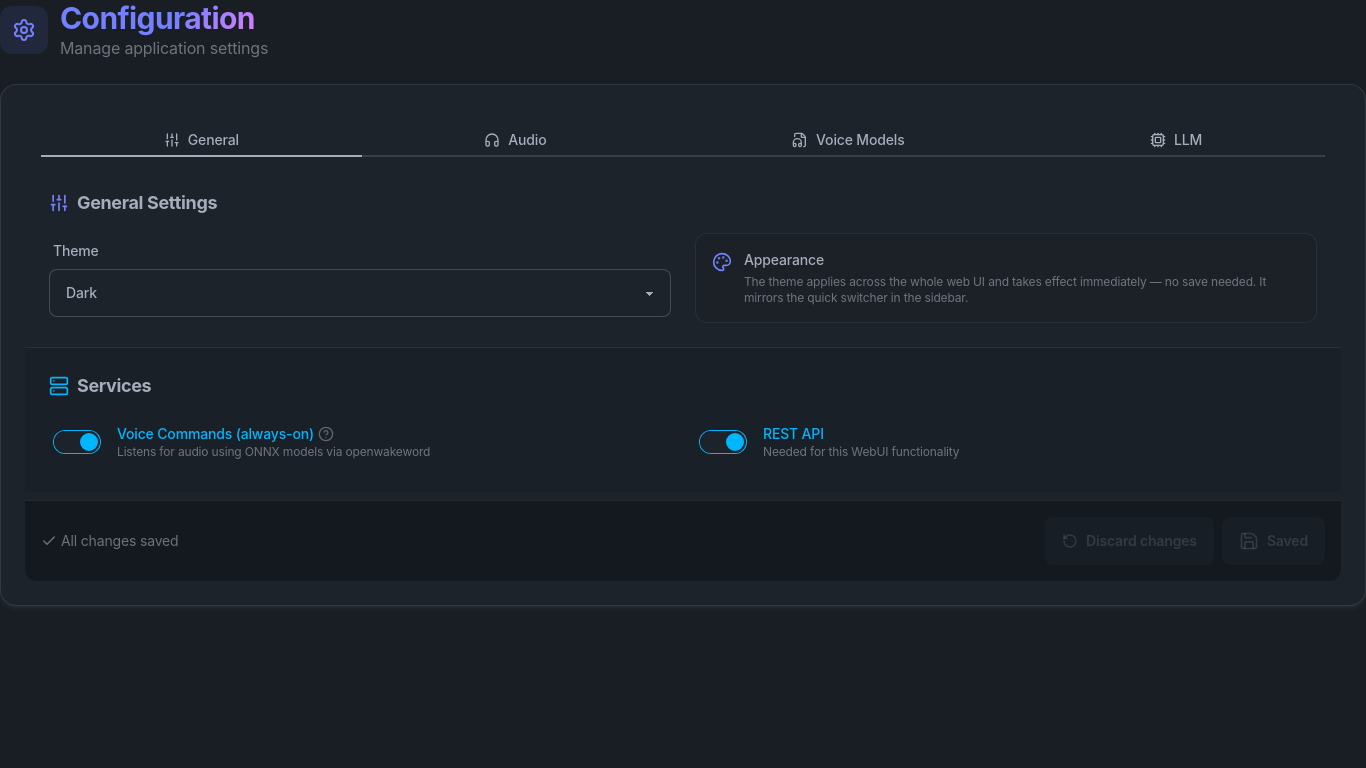
ConfigurationPage dirty-state + save › Discard reverts changes back to the loaded config
The image size is (1366, 768).
Expected: the button with test id "save-button" is disabled, x1=1222 y1=517 x2=1325 y2=565
Select "Light" in the dropdown labelled "Theme" at [360, 293], box x1=49 y1=269 x2=671 y2=317
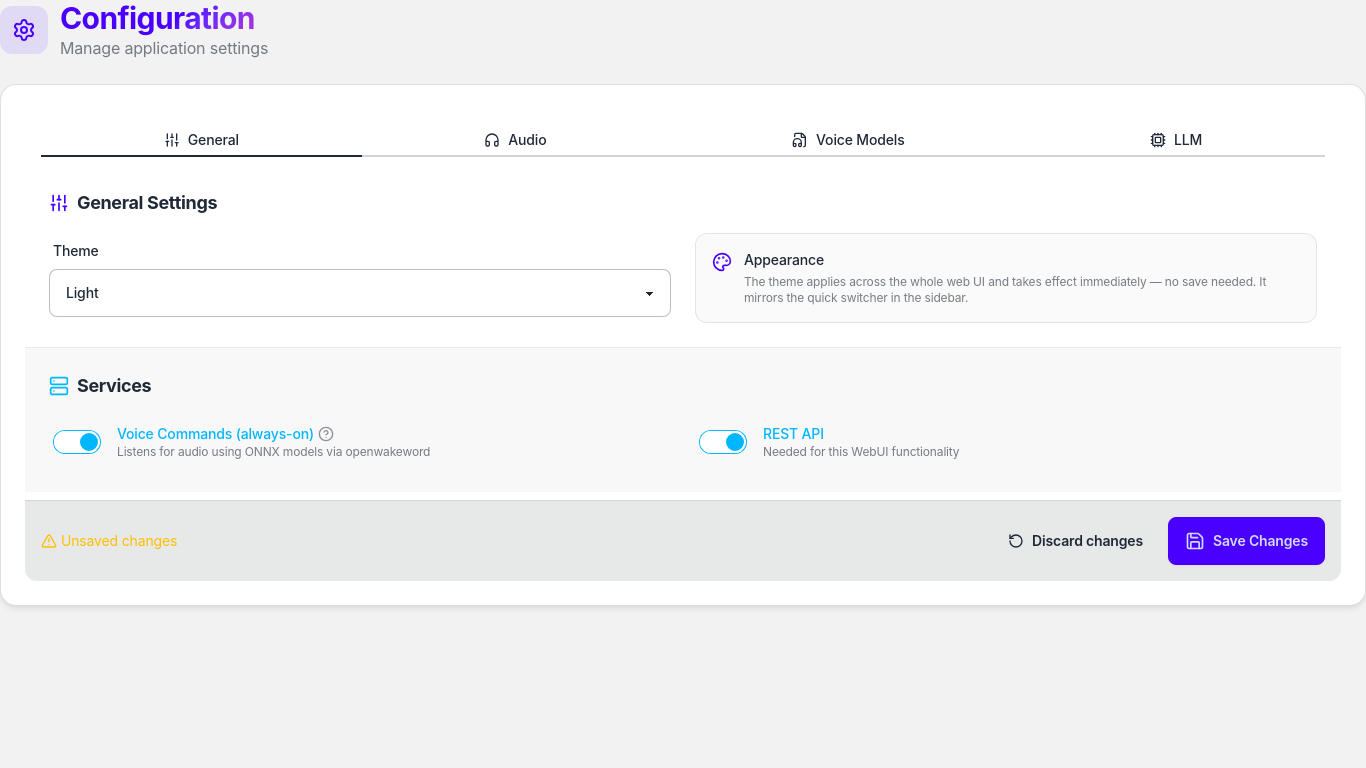
Click the button with test id "discard-button" at [1076, 541], box x1=991 y1=517 x2=1160 y2=565
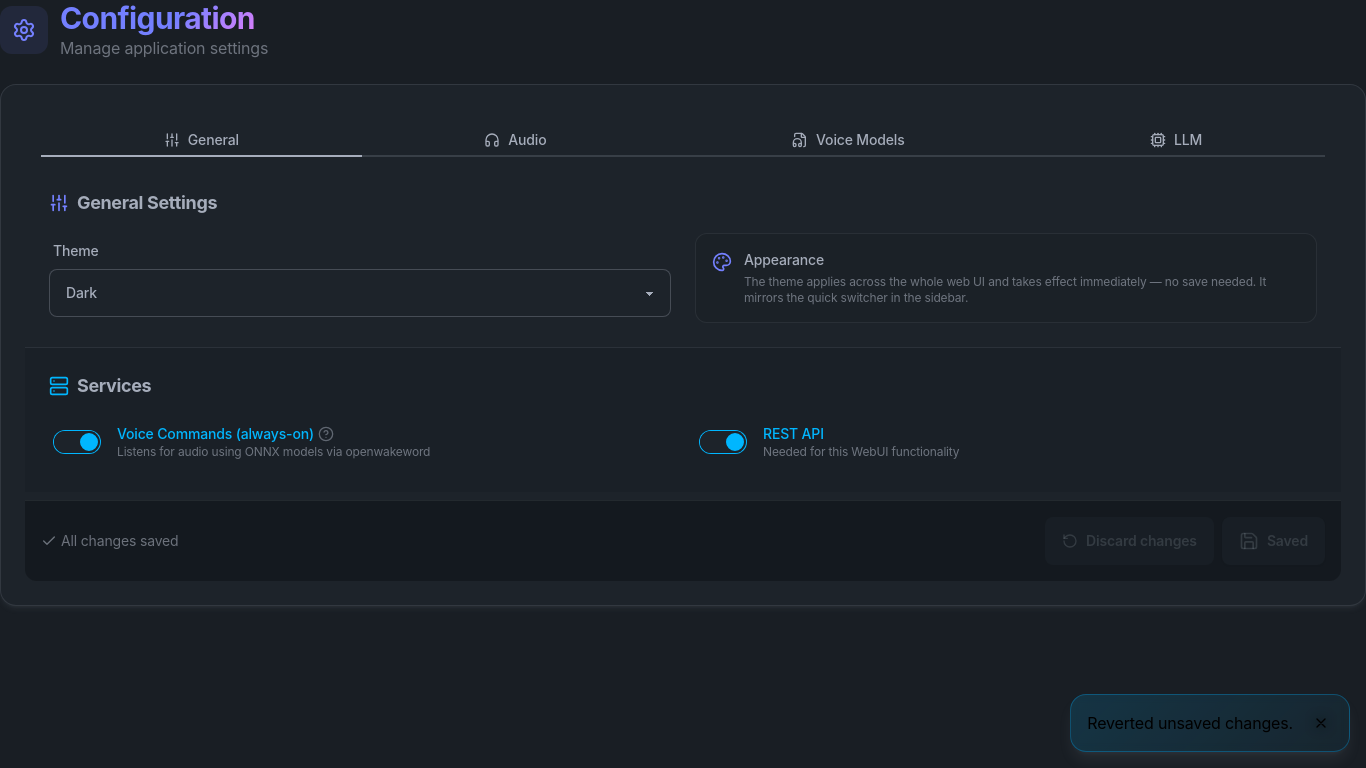
Now the button with test id "save-button" is disabled, box x1=1222 y1=517 x2=1325 y2=565
